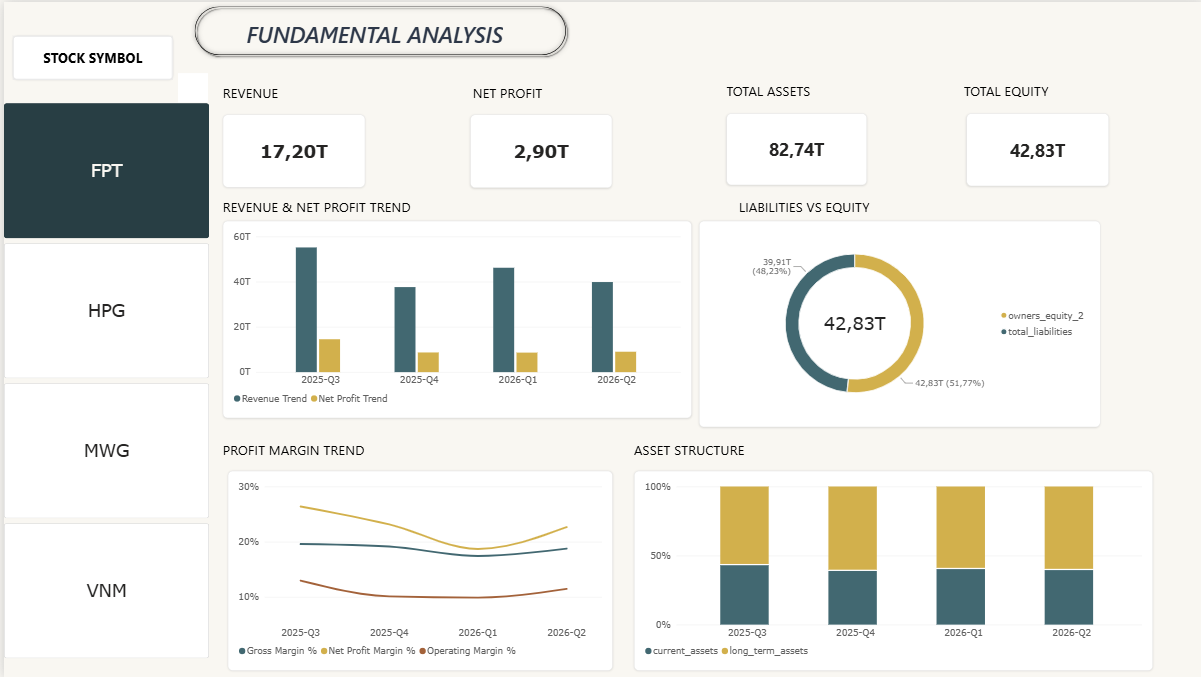

What the dashboard file says about the page in this screenshot:
{"tool":"powerbi","page":{"name":"Fundamental Analysis","canvas":[1920,1080],"ordinal":2},"visuals":[{"type":"shape","box":[297.5,0,608.2,92],"z":0,"group":"g1"},{"type":"cardVisual","fields":{"Data":["Sum(public vw_financial_latest.Revenue)"]},"box":[350,180,228.3,116.7],"z":0},{"type":"cardVisual","fields":{"Data":["public vw_financial_latest.Net Profit"]},"box":[745,180,227.5,117.5],"z":1000},{"type":"shape","box":[327,26.3,530.3,50],"z":2000,"group":"g1"},{"type":"shape","box":[350,110,193.3,70],"z":2000},{"type":"shape","box":[750,110,256.7,70],"z":3000},{"type":"cardVisual","fields":{"Data":["public vw_financial_latest.Total Equity"]},"box":[1540,177.5,228.3,116.7],"z":4000},{"type":"cardVisual","fields":{"Data":["public vw_financial_latest.Total Assets"]},"box":[1155,177.5,225,115],"z":5000},{"type":"shape","box":[1535,105,221.7,70],"z":6000},{"type":"shape","box":[1155,105,256.7,70],"z":7000},{"type":"shape","box":[350,292,420,70],"z":8000},{"type":"shape","box":[13.3,53.3,256.7,70],"z":10000},{"type":"donutChart","fields":{"Category":["public vw_financial_latest.metric"],"Y":["Max(public vw_financial_latest.value)"]},"box":[1112,350,642.5,330],"z":11000},{"type":"shape","box":[1175,292.5,256.7,70],"z":12000},{"type":"lineClusteredColumnComboChart","fields":{"Category":["public dim_period.period_label"],"Y":["public fact_financial_metric.Revenue Trend","public fact_financial_metric.Net Profit Trend"]},"box":[350,350,750,316],"z":13000},{"type":"lineChart","fields":{"Category":["public dim_period.period_label"],"Y":["public fact_financial_metric.Gross Margin %","public fact_financial_metric.Net Profit Margin %","public fact_financial_metric.Operating Margin %"]},"box":[358,750,616,320],"z":14000},{"type":"shape","box":[350,680,420,70],"z":15000},{"type":"hundredPercentStackedColumnChart","fields":{"Category":["public dim_period.period_label"],"Series":["public fact_financial_metric.metric"],"Y":["Max(public fact_financial_metric.value)"]},"box":[1007.5,750,830,320],"z":16000},{"type":"shape","box":[1007.5,680,270,70],"z":17000},{"type":"group","id":"g1","title":"Group 1","box":[297.5,0,607.5,92.5],"z":18000},{"type":"advancedSlicerVisual","fields":{"Values":["public vw_financial_latest.symbol"]},"box":[0,162,328,890],"z":18001}]}

Visuals, with their boxes in screenshot pixels (x1, y1, x2, y2), scaled from the page's 1920x1080 canvas onto the 1201x677 screenshot:
shape: box=[186, 0, 567, 58]
cardVisual - Sum(public vw_financial_latest.Revenue): box=[219, 113, 362, 186]
cardVisual - public vw_financial_latest.Net Profit: box=[466, 113, 608, 186]
shape: box=[205, 16, 536, 48]
shape: box=[219, 69, 340, 113]
shape: box=[469, 69, 630, 113]
cardVisual - public vw_financial_latest.Total Equity: box=[963, 111, 1106, 184]
cardVisual - public vw_financial_latest.Total Assets: box=[722, 111, 863, 183]
shape: box=[960, 66, 1099, 110]
shape: box=[722, 66, 883, 110]
shape: box=[219, 183, 482, 227]
shape: box=[8, 33, 169, 77]
donutChart - public vw_financial_latest.metric x Max(public vw_financial_latest.value): box=[696, 219, 1097, 426]
shape: box=[735, 183, 896, 227]
lineClusteredColumnComboChart - public dim_period.period_label x public fact_financial_metric.Revenue Trend: box=[219, 219, 688, 417]
lineChart - public dim_period.period_label x public fact_financial_metric.Gross Margin %: box=[224, 470, 609, 671]
shape: box=[219, 426, 482, 470]
hundredPercentStackedColumnChart - public dim_period.period_label x public fact_financial_metric.metric: box=[630, 470, 1149, 671]
shape: box=[630, 426, 799, 470]
"Group 1" group: box=[186, 0, 566, 58]
advancedSlicerVisual - public vw_financial_latest.symbol: box=[0, 102, 205, 659]
